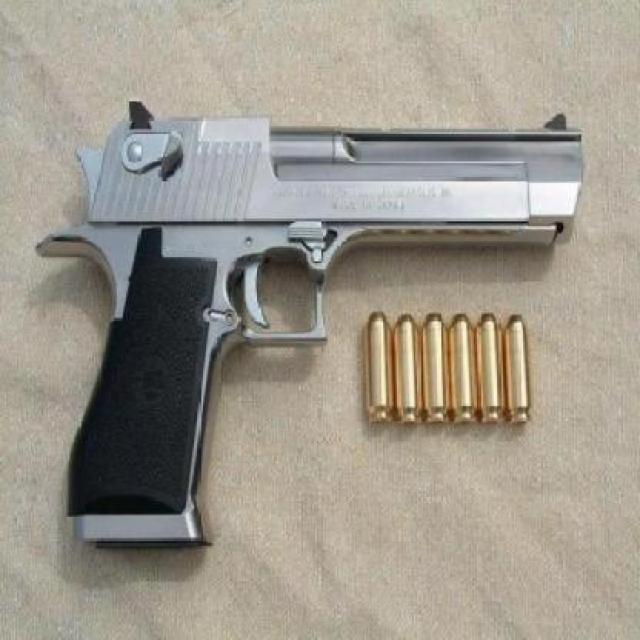gun: (41, 92, 594, 562)
